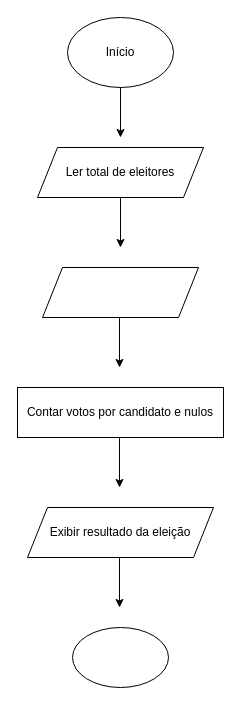
The diagram is 241 pixels wide and 705 high, and some of its shapes have lost their labels. The shapes that lost their labels are listed below. From the top down, each one's box as (x1, y1, x2, y2) in pixels, then its label:
(42, 266, 198, 318): Ler votos dos eleitores
(72, 626, 168, 688): Fim
